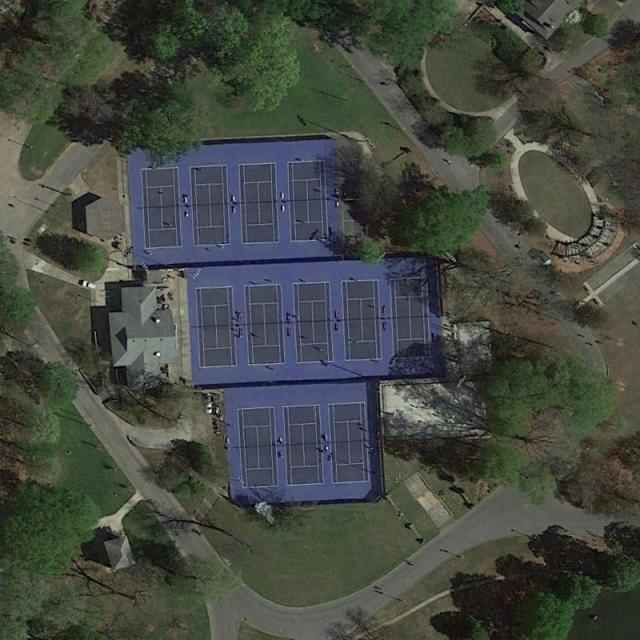vehicle: (82, 280, 96, 289)
